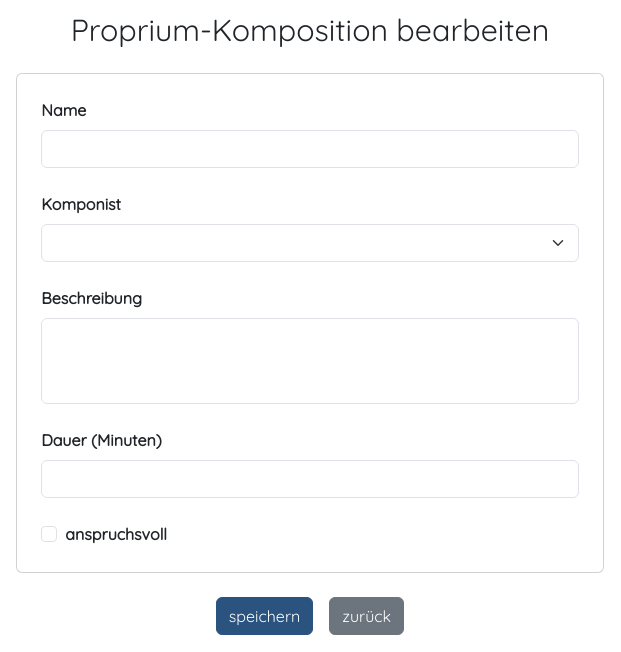
PropriumworkFormView › shows field-level validation errors under the matching input
Click the button "speichern".
click(265, 616)  # box 216,596 -> 313,634
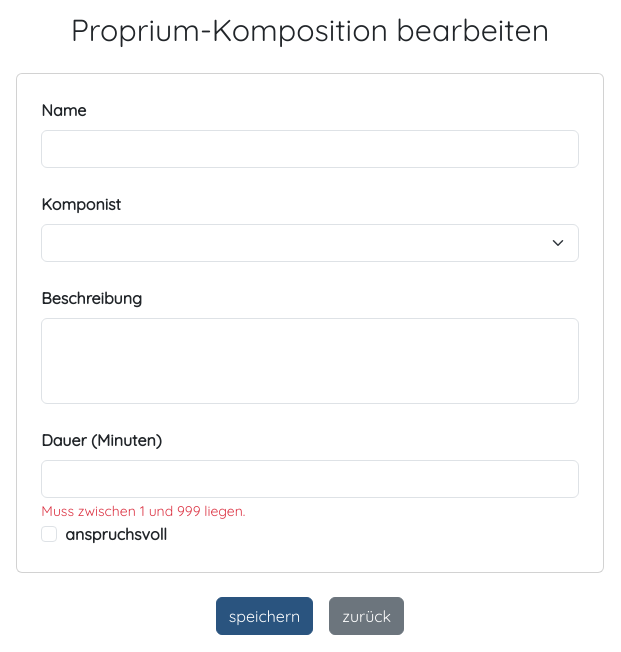
Now the text "Muss zwischen 1 und 999 liegen." is shown, box 41,502 -> 249,520
